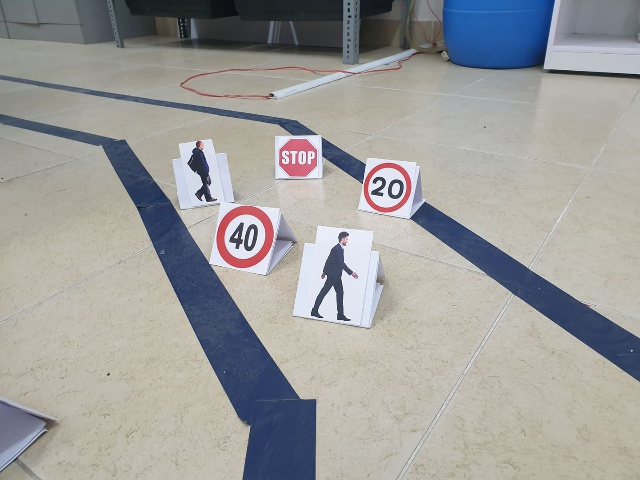Limit 20: (365, 167, 410, 216)
Limit 40: (216, 208, 275, 270)
Person: (314, 229, 358, 323), (184, 140, 219, 204)
Stop: (277, 135, 322, 177)
